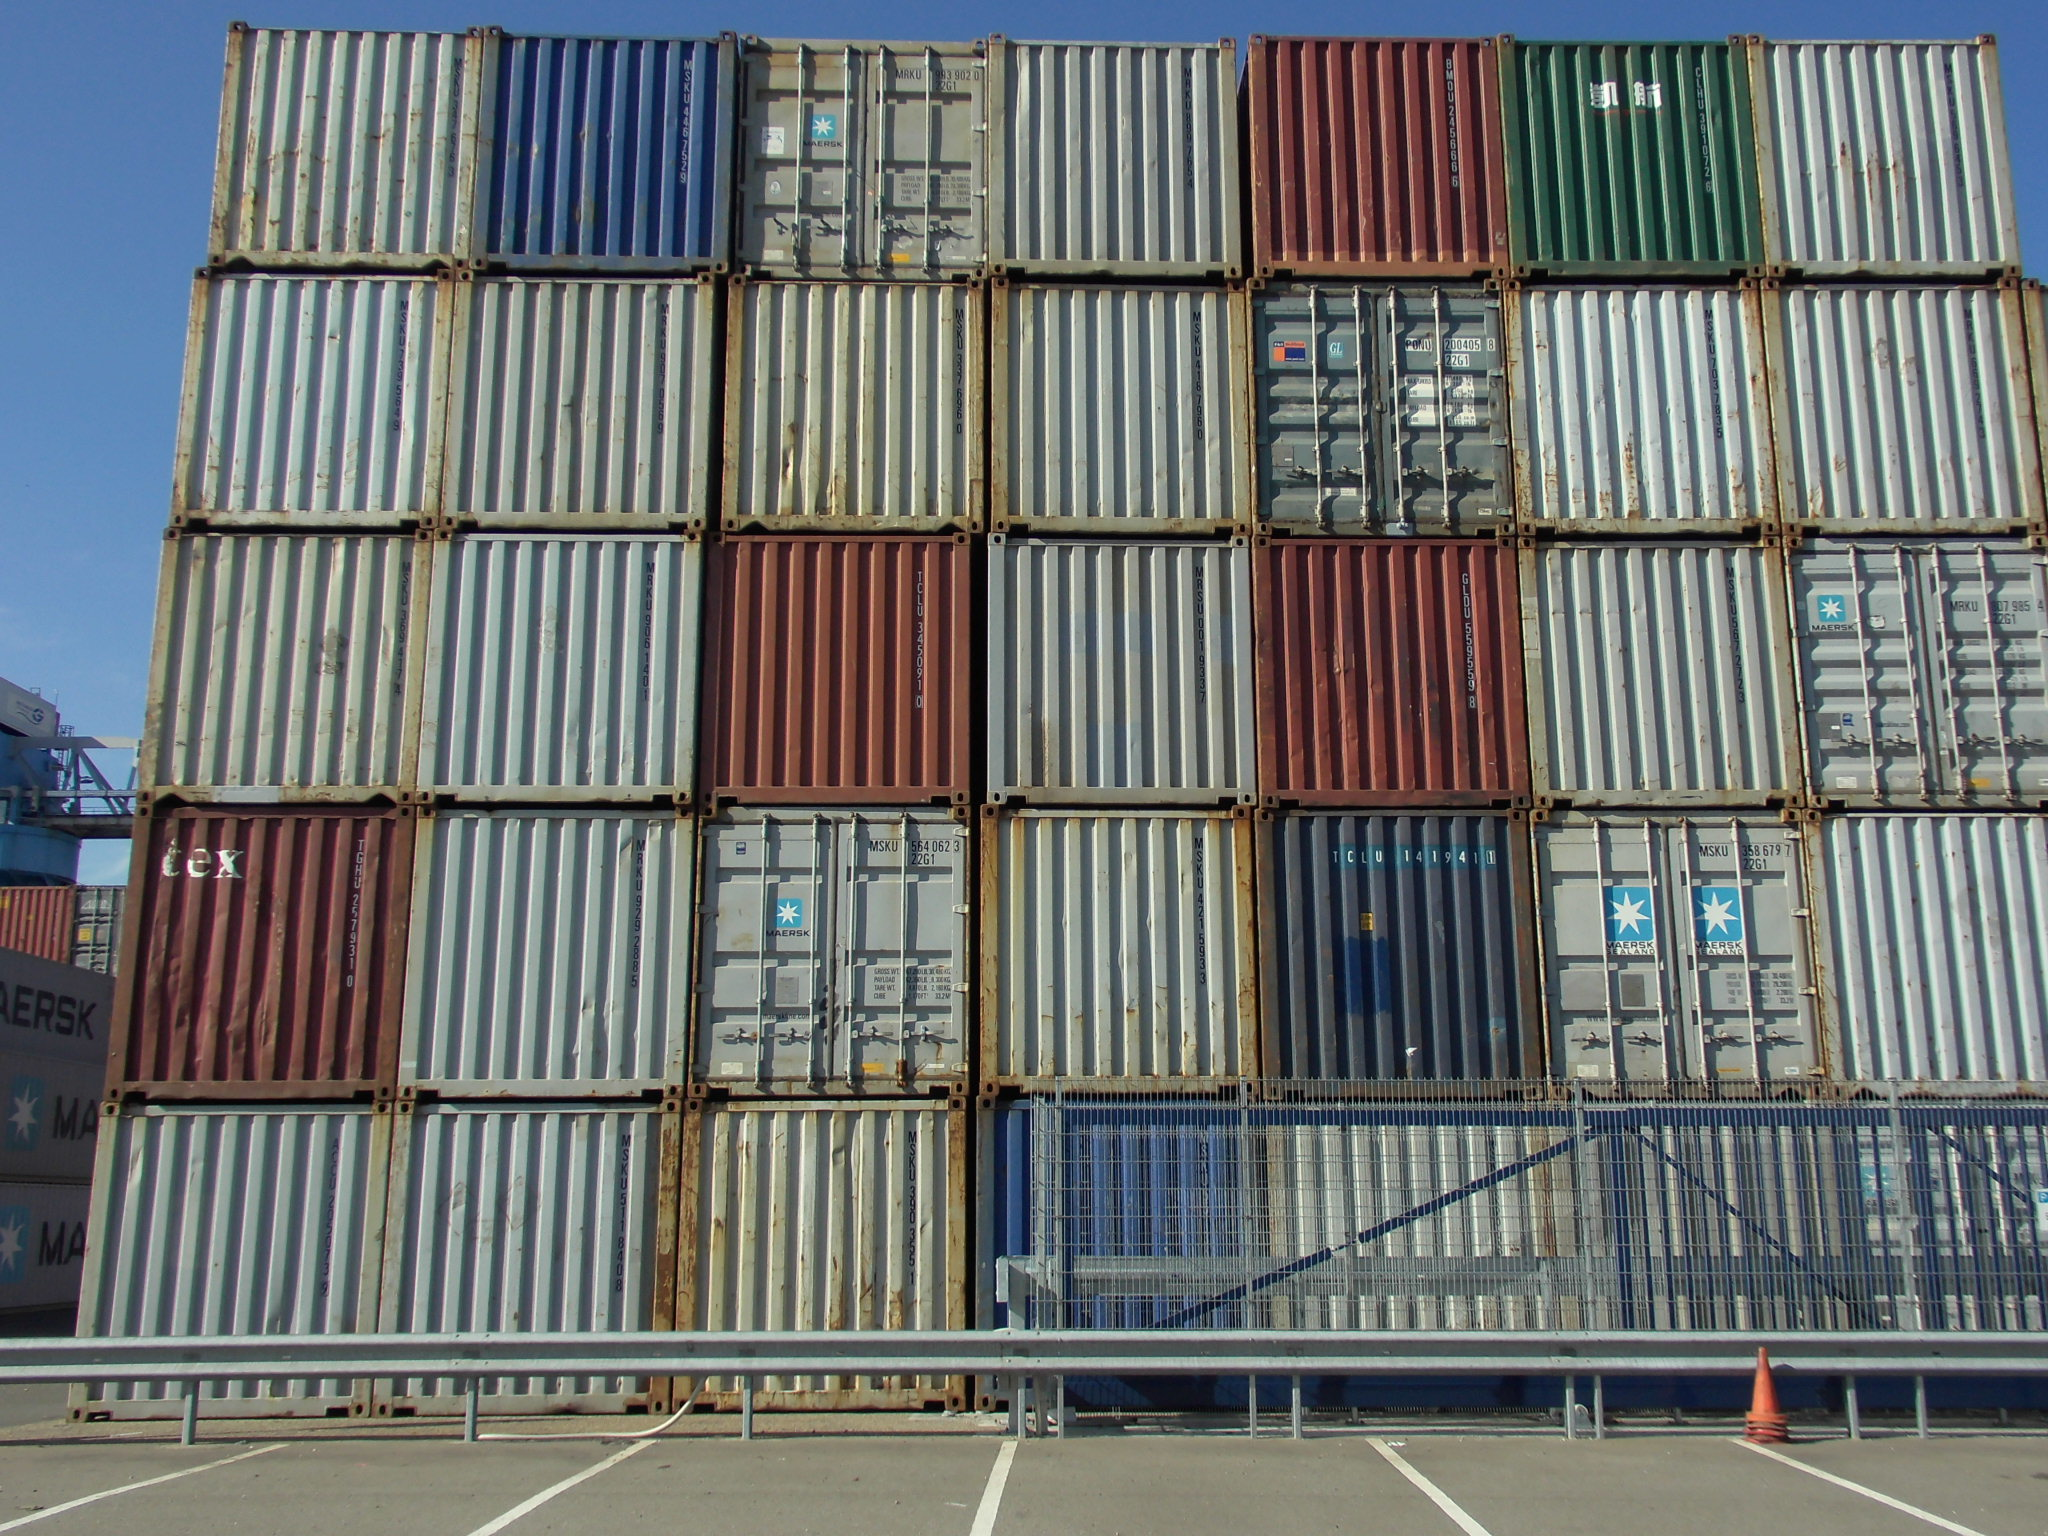container_door: (706, 807, 976, 1092), (1550, 800, 1817, 1087), (1796, 541, 2048, 792), (748, 39, 985, 265), (1266, 290, 1503, 516)
container_no_door: (150, 808, 384, 1086), (113, 1125, 347, 1402), (426, 815, 660, 1091), (423, 1123, 655, 1400), (727, 1125, 959, 1402), (995, 816, 1227, 1092), (1288, 812, 1521, 1087), (1816, 824, 2046, 1100), (481, 27, 734, 273), (224, 23, 476, 268), (1251, 35, 1503, 281), (189, 269, 440, 515), (737, 281, 989, 526), (998, 279, 1250, 524), (1522, 287, 1774, 532), (1784, 286, 2035, 531), (174, 536, 426, 781), (442, 537, 693, 783), (997, 34, 1250, 278), (1272, 547, 1526, 791), (1501, 34, 1753, 278), (458, 276, 710, 520), (721, 541, 972, 784), (1005, 545, 1256, 789), (1542, 549, 1793, 792), (1751, 32, 2001, 276)
